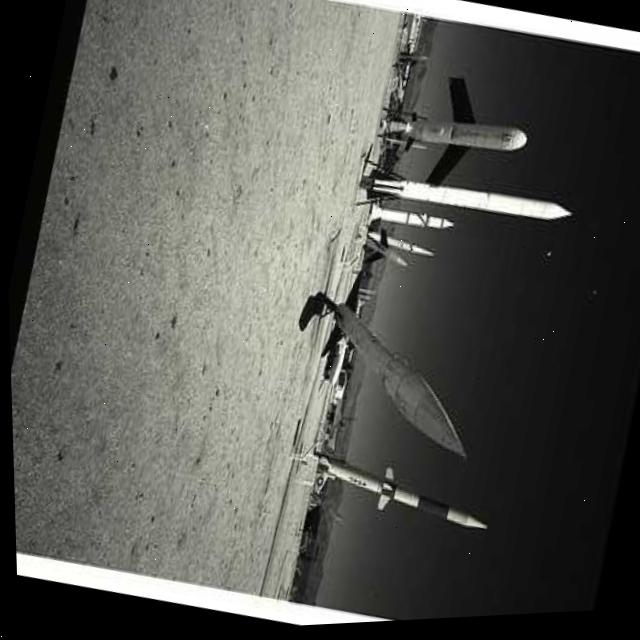missile: (294, 274, 499, 470), (373, 63, 541, 214), (358, 152, 575, 260), (304, 444, 495, 541), (366, 203, 452, 248)
